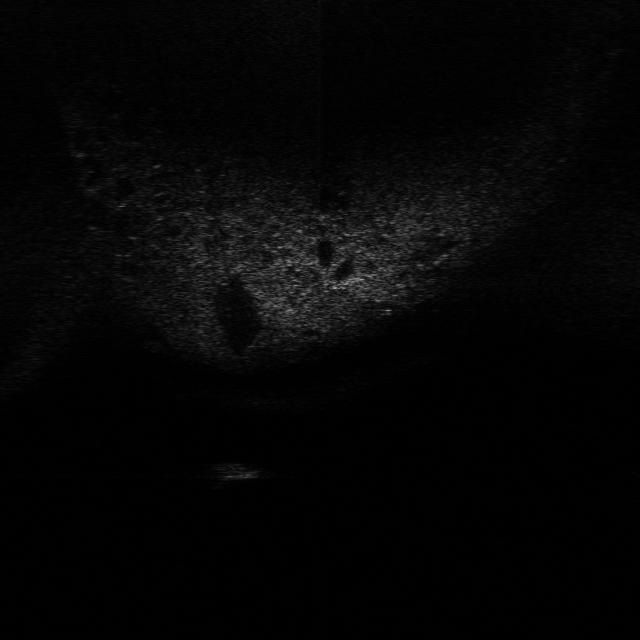cube: (207, 457, 273, 483)
